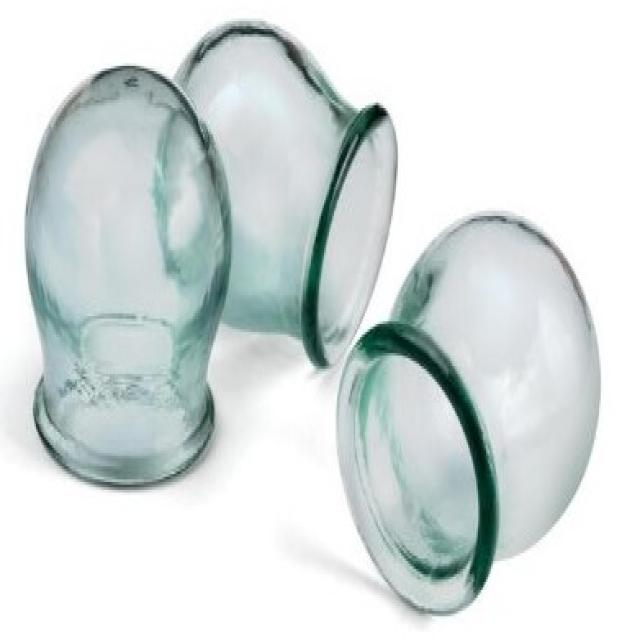electronic: (333, 211, 604, 616), (152, 13, 398, 380), (27, 66, 237, 488)
